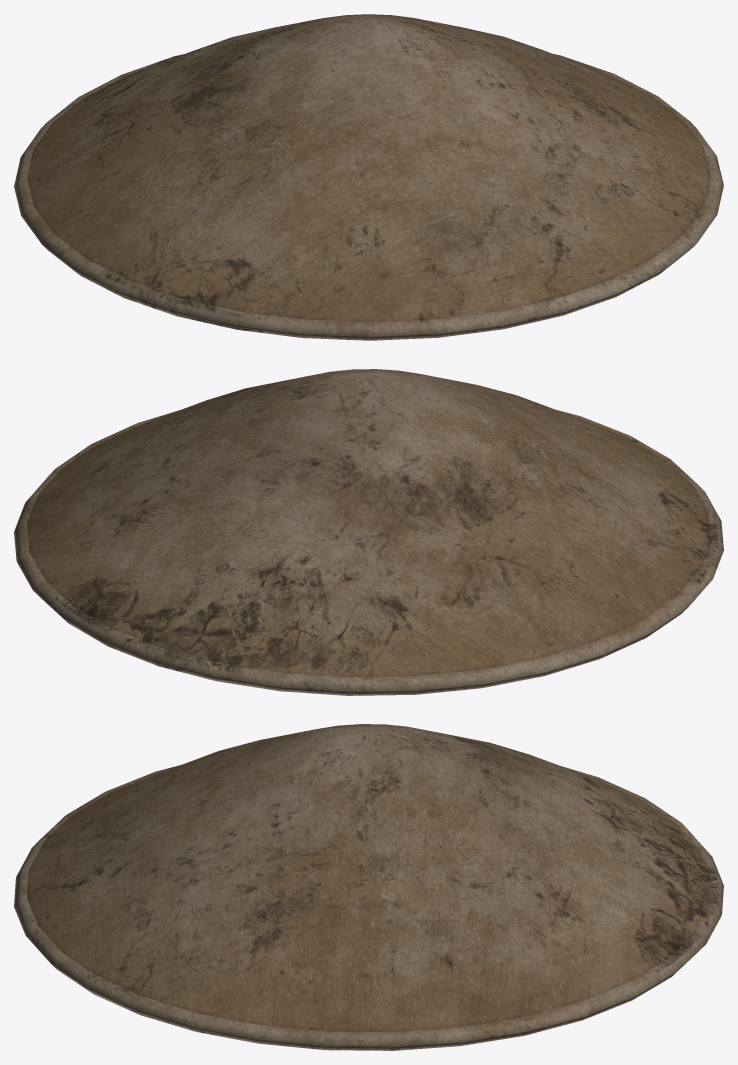
Rendered from RattanHat_LODG.fbx.
3 views of the same model, one above another, from view 1: azimuth 30°, elevation 25°; view 2: azimuth 150°, elevation 25°; view 3: azimuth 270°, elevation 25° (orthographic).
Parts seen in each view (by area): view 1: RattanHat_LOD0; view 2: RattanHat_LOD0; view 3: RattanHat_LOD0.
Boxes of the visible parts, x1=… form: RattanHat_LOD0: x1=14, y1=14, x2=723, y2=340; RattanHat_LOD0: x1=14, y1=369, x2=723, y2=695; RattanHat_LOD0: x1=14, y1=724, x2=723, y2=1050.
Size of what is drawn, in the model's own units: 64.18 by 17.41 by 64.18.
